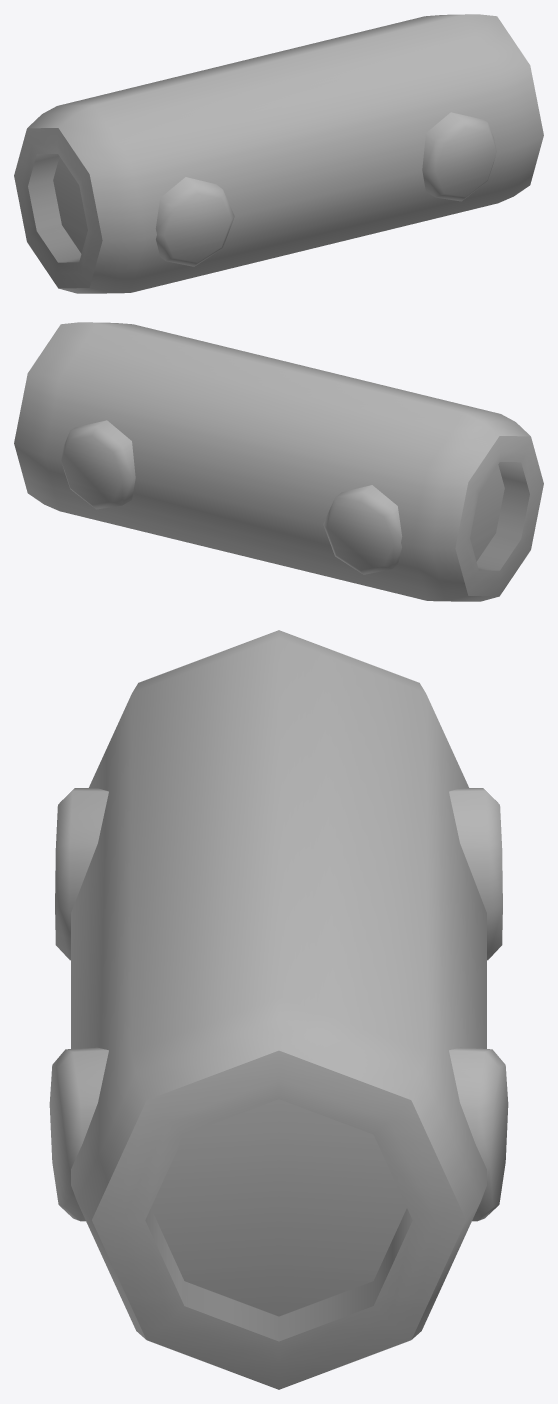
The model's file is stone_guard_042.glb.
3 views of the same model, one above another, from view 1: azimuth 30°, elevation 25°; view 2: azimuth 150°, elevation 25°; view 3: azimuth 270°, elevation 25° (orthographic). The views are drawn at different scales.
Visible parts, largest first — view 1: stone_guard.042; view 2: stone_guard.042; view 3: stone_guard.042.
Part boxes in pixels (left/top/right/bottom): stone_guard.042: left=14, top=14, right=543, bottom=293; stone_guard.042: left=14, top=322, right=543, bottom=601; stone_guard.042: left=49, top=630, right=508, bottom=1389.
Bounding box in the file's own units: 4.9 × 2 × 2.21.
1 material, 1 textured.
